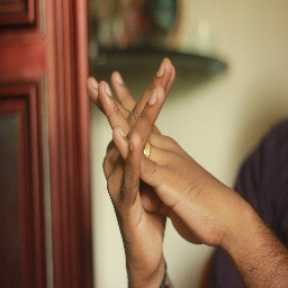W: (75, 52, 215, 220)
